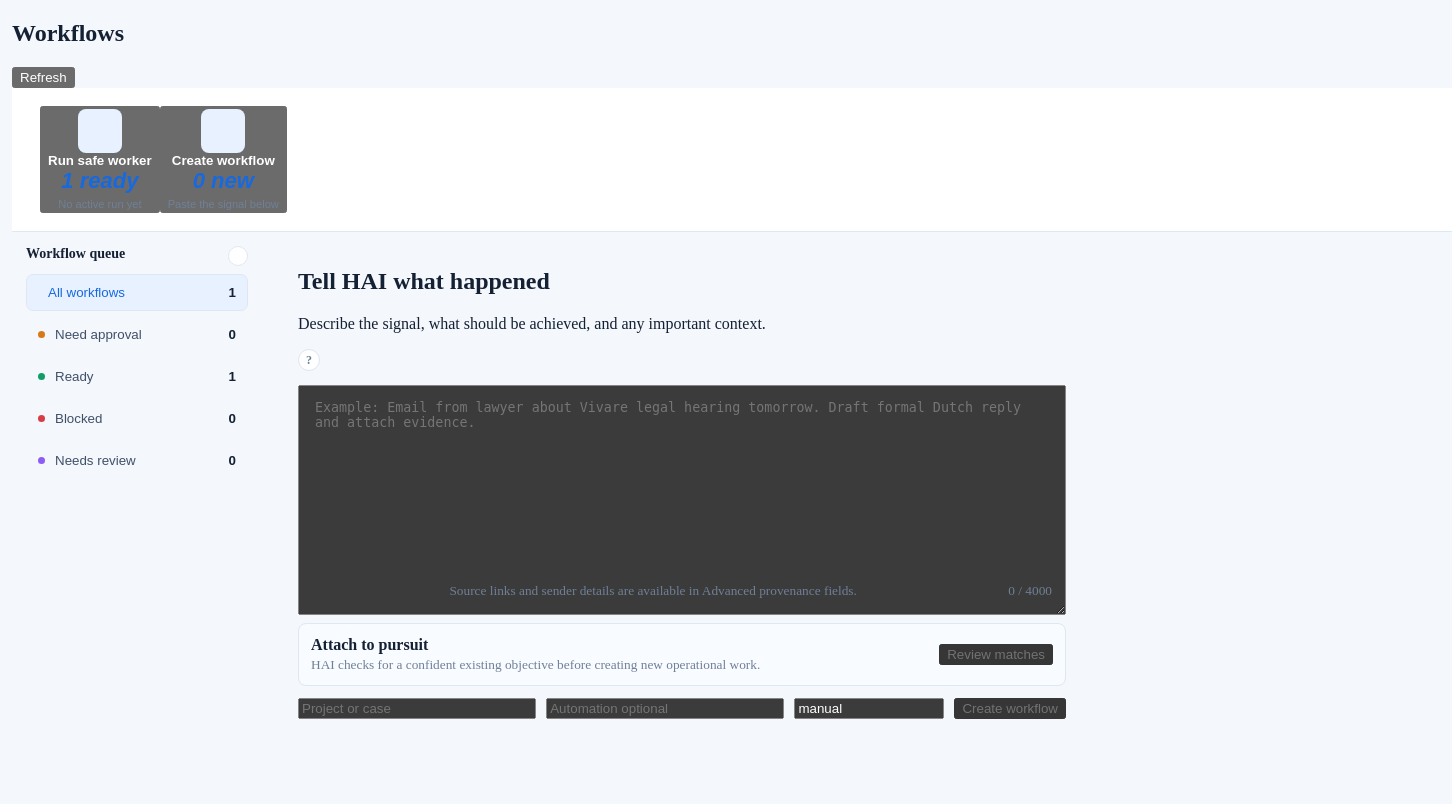
WorkflowEngineComponent progressive disclosure › shows and focuses the Advanced filters when the Basic-view shortcut is used
The width and height of the screenshot is (1452, 804).
Step 1. Click the button named "Show and focus workflow filters" → (238, 256), box [228, 246, 248, 266]
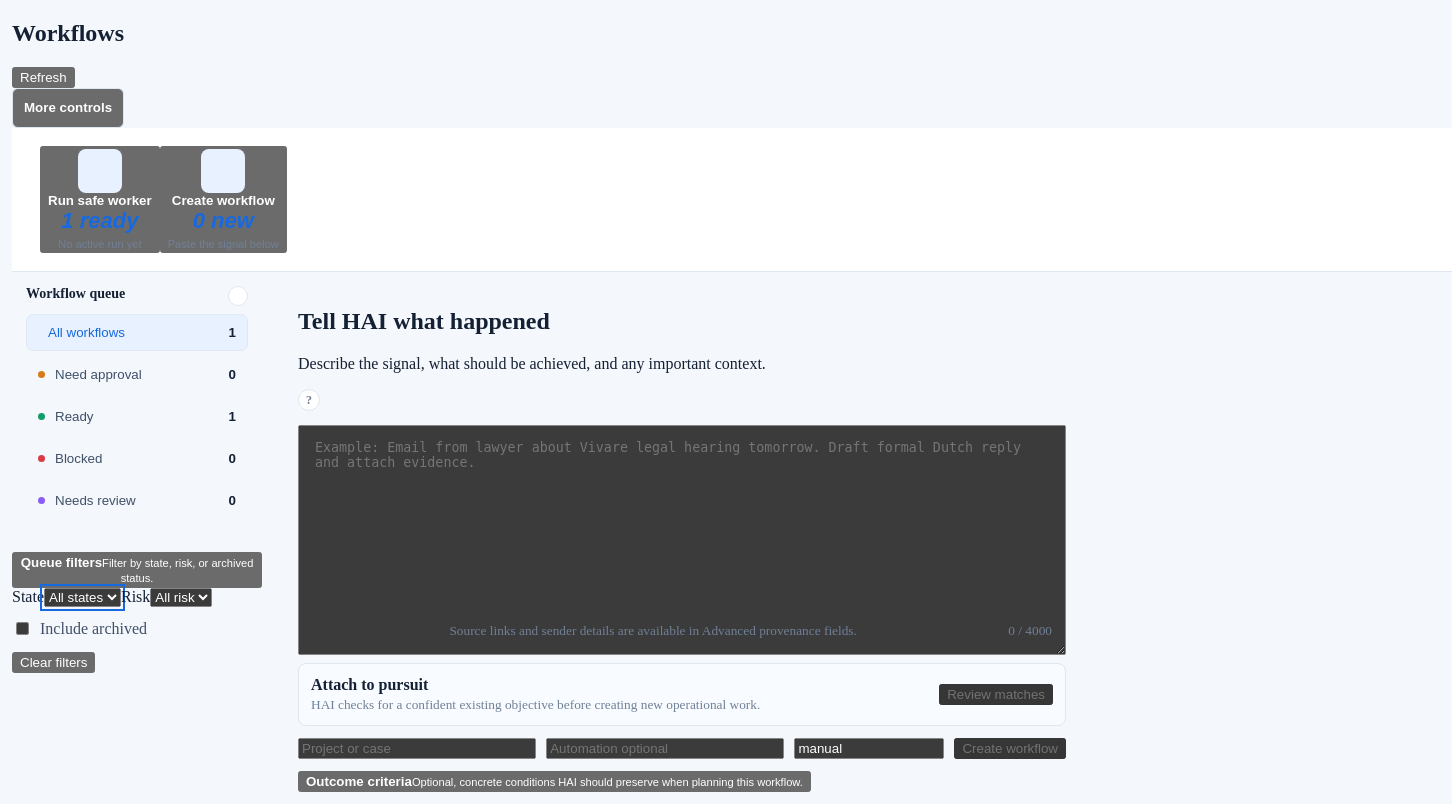
Now the dropdown with id "workflow-state-filter" is shown, box [44, 588, 121, 607]
